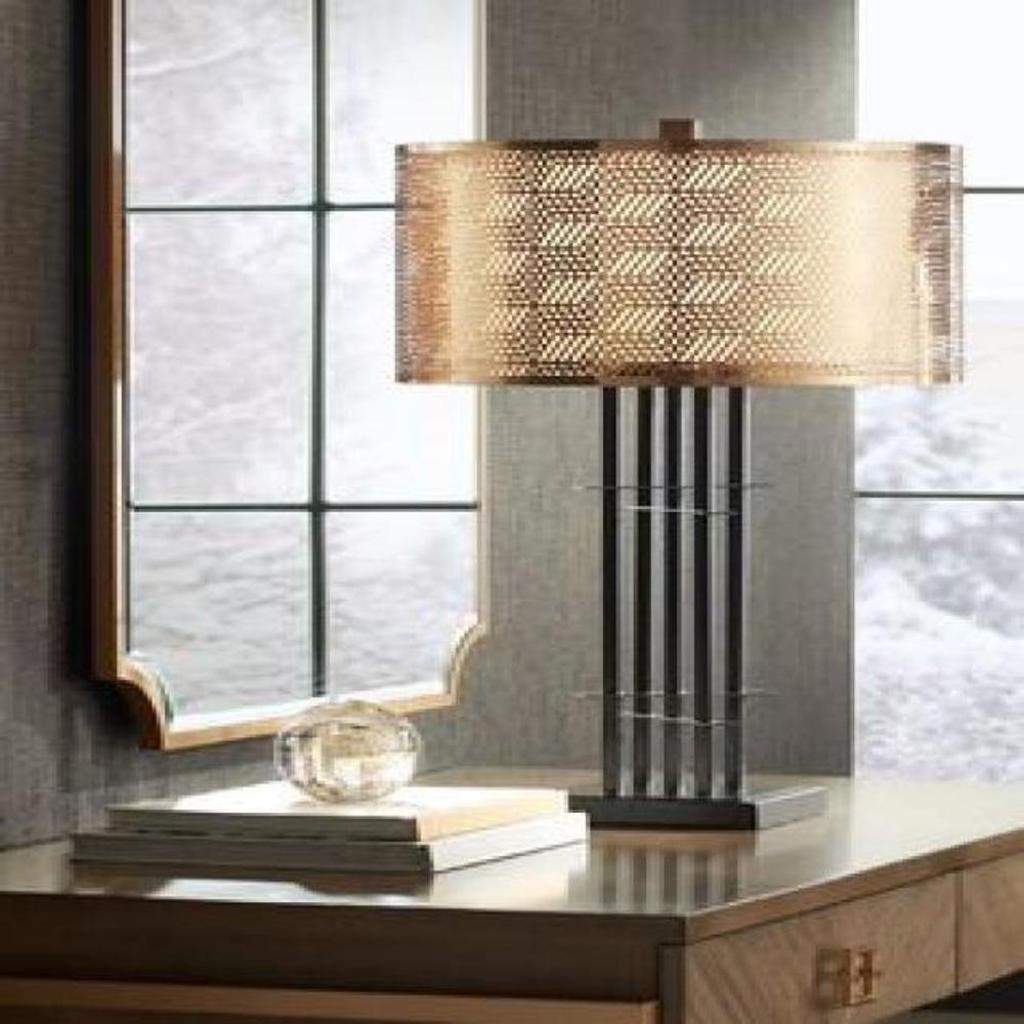shelf: (363, 77, 1024, 846)
